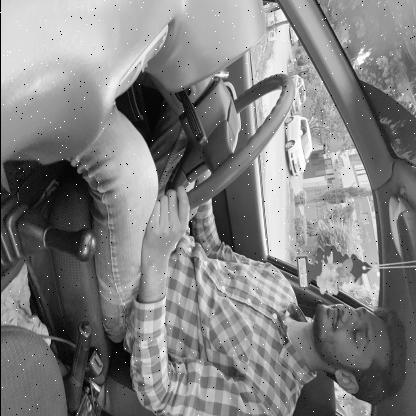no_seatbelt: (204, 266, 386, 390)
